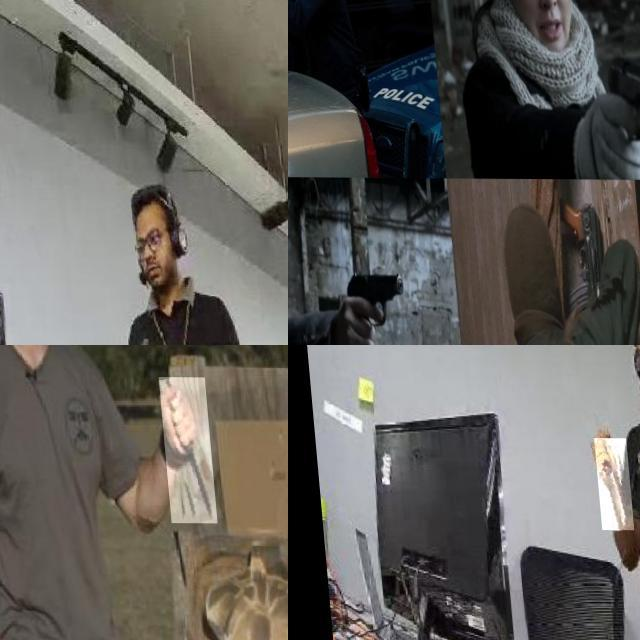-: (154, 377, 211, 522), (587, 438, 626, 530)
gun-knife-thesis - v11 Yolov5 augmented: (550, 192, 600, 312), (333, 260, 398, 332), (595, 47, 640, 149), (288, 0, 304, 21)
